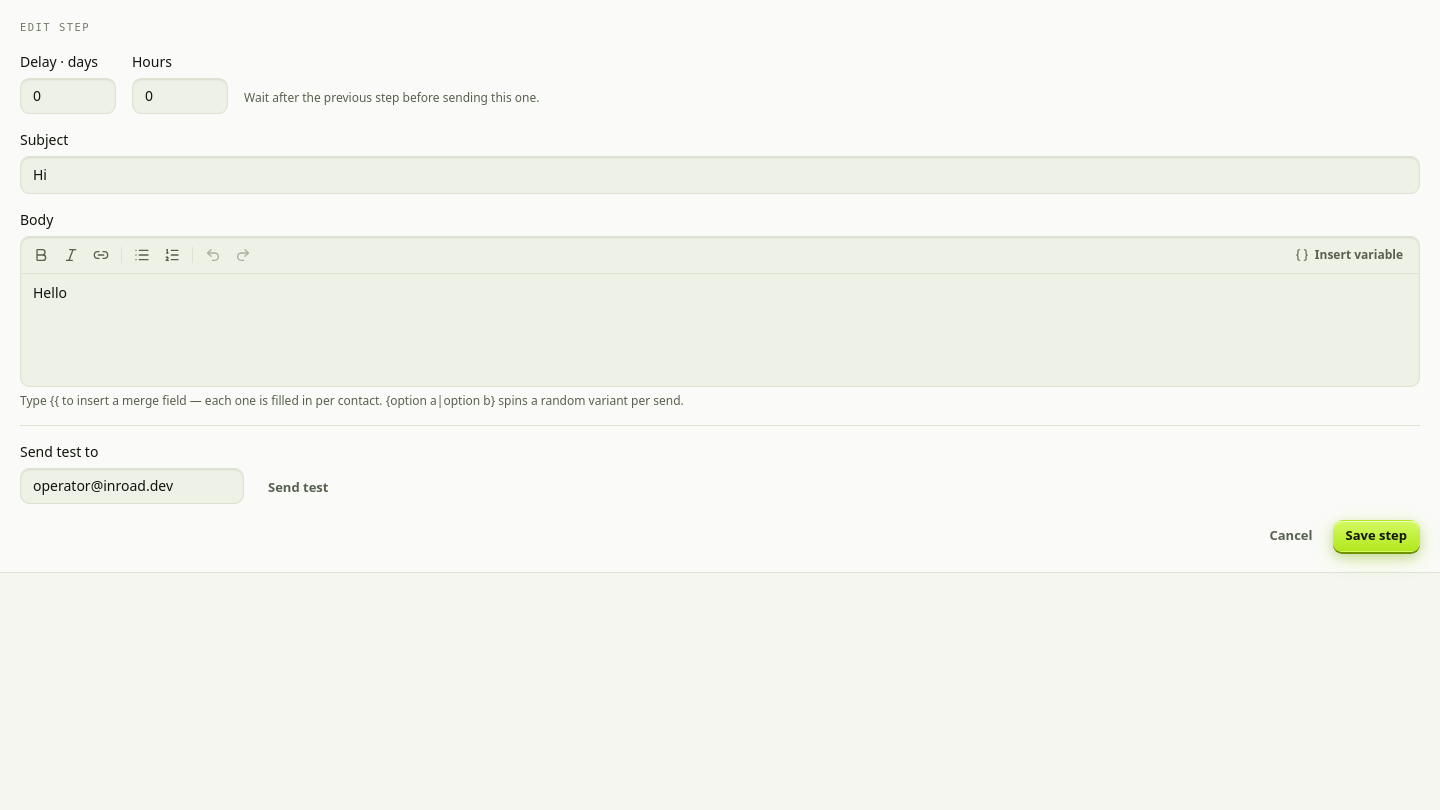
Test: a 422 test-send error surfaces "No enabled sender…" inline under the control
Step 1. Click the button "Send test" → (298, 488), box top-left (256, 472), bottom-right (340, 504)
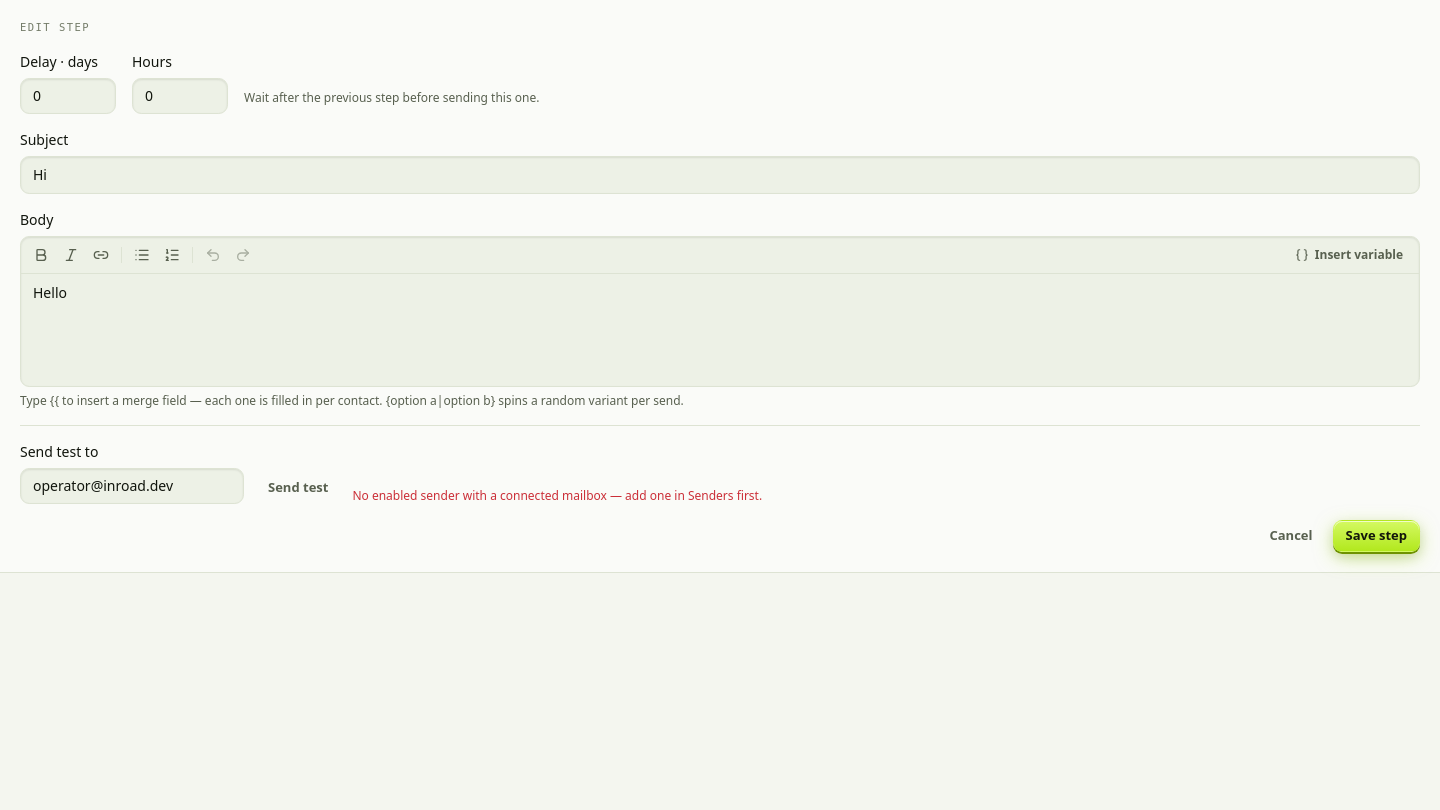
Now the text "No enabled sender with a connected mailbox — add one in Senders first." is shown, box top-left (352, 488), bottom-right (762, 504)
